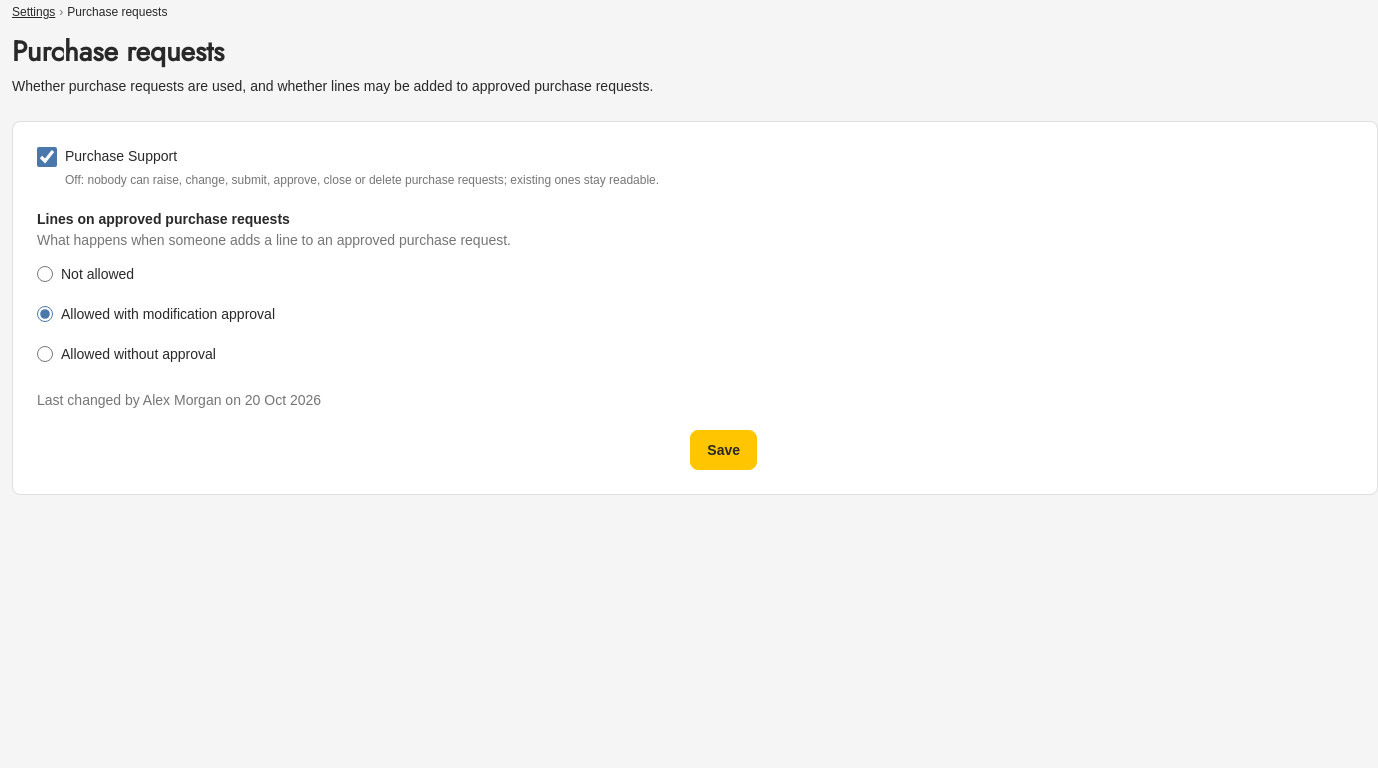
032 FR-004: Settings › Purchase requests › keeps the entries and says who changed it first on a version conflict
The image size is (1378, 768).
Step 1. Click the checkbox labelled "Purchase Support" → (47, 156), box [37,146,57,166]
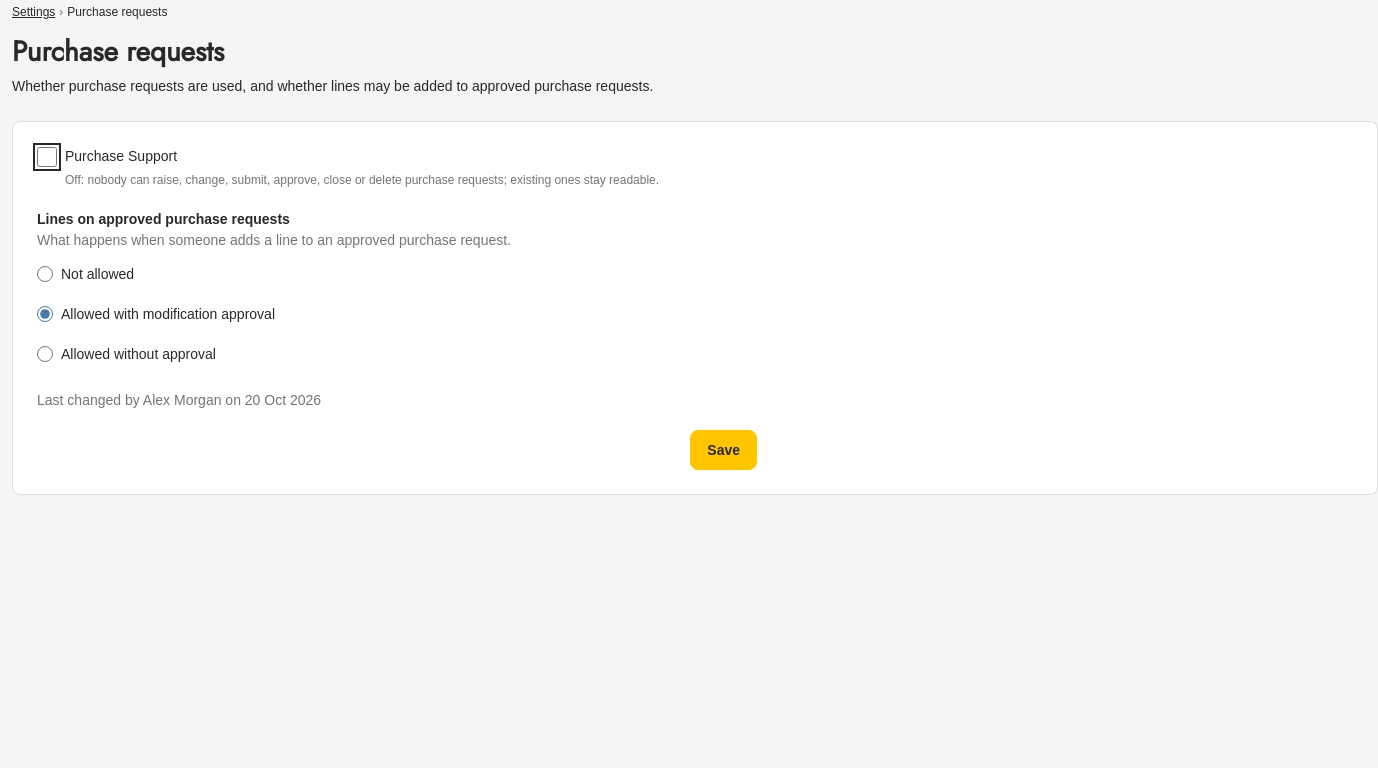
Step 2. Click the button "Save" → (724, 450), box [690,430,757,470]
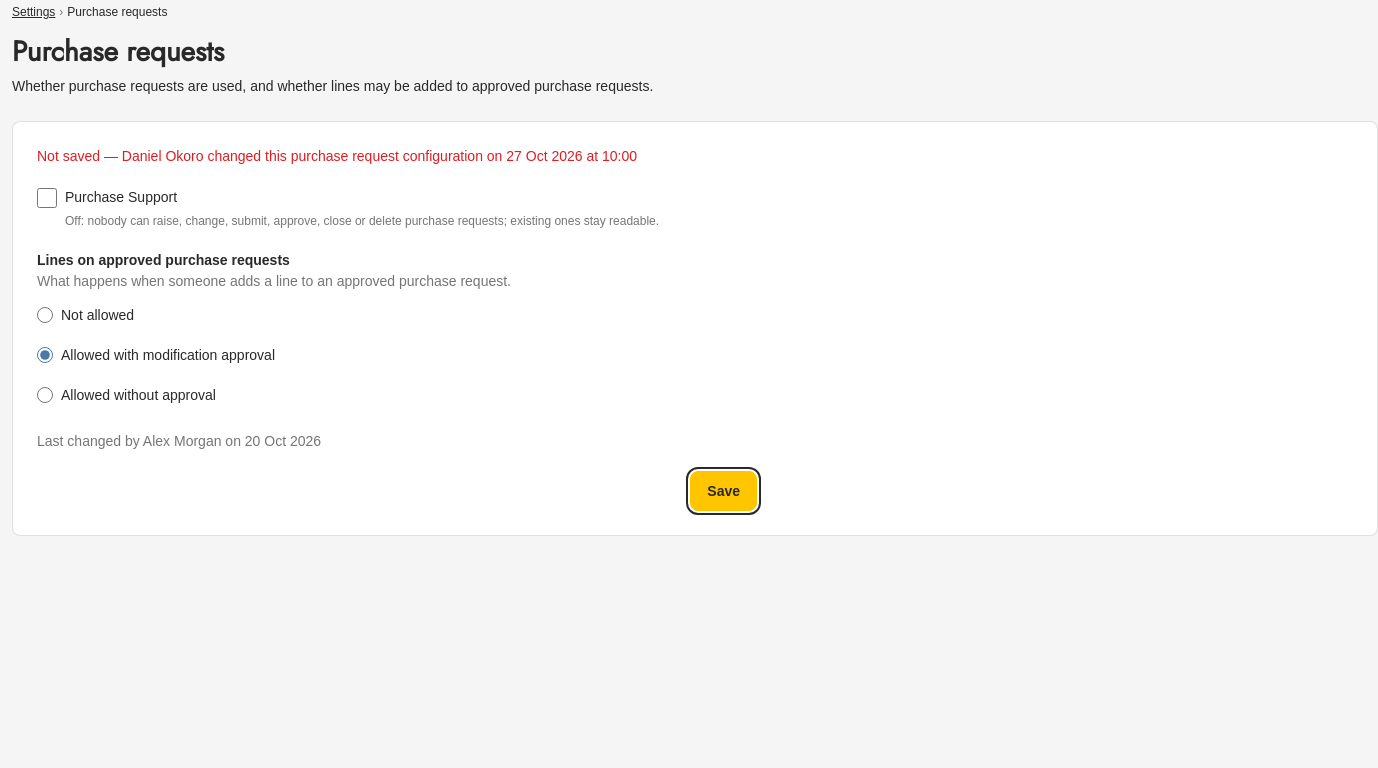
Result: the checkbox labelled "Purchase Support" is not checked at [37,188,57,208]
Result: the message shows "Not saved — Daniel Okoro changed this purchase request configuration" at [37,148,637,164]
